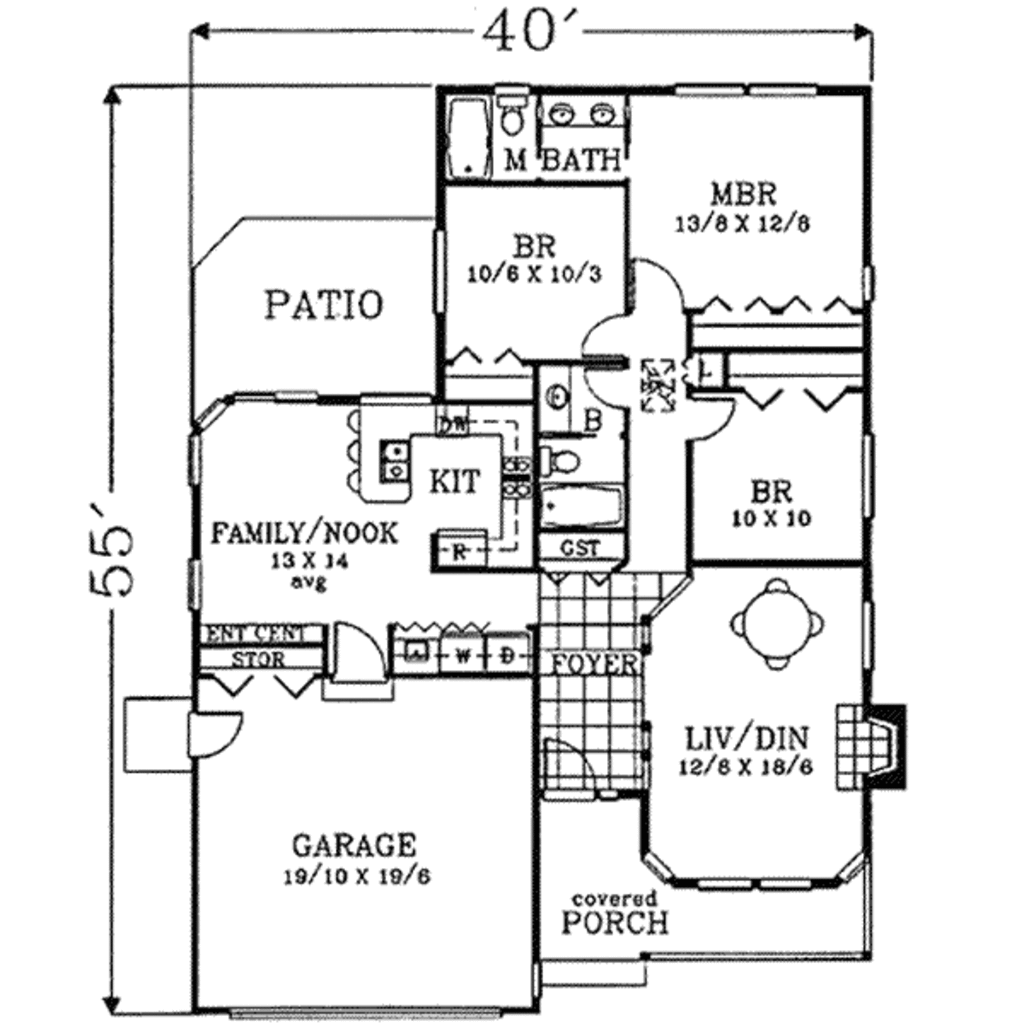door: (325, 617, 398, 703), (624, 254, 690, 320), (541, 736, 597, 812), (682, 387, 748, 439), (186, 708, 242, 762), (575, 364, 630, 414), (574, 315, 625, 357)
kitchen_bar: (338, 400, 459, 511)
large_sink: (489, 80, 538, 140), (535, 443, 593, 479)
round_table: (733, 571, 828, 683)
small_sink: (545, 96, 632, 130), (533, 359, 565, 433)
tub: (535, 482, 634, 528), (447, 95, 486, 180)
twin_sink: (373, 436, 414, 482)
window: (186, 397, 231, 493), (669, 78, 824, 102), (692, 876, 819, 897), (857, 428, 881, 527), (182, 554, 216, 621), (636, 848, 684, 893), (832, 847, 881, 890), (857, 597, 876, 676), (265, 385, 324, 408)
